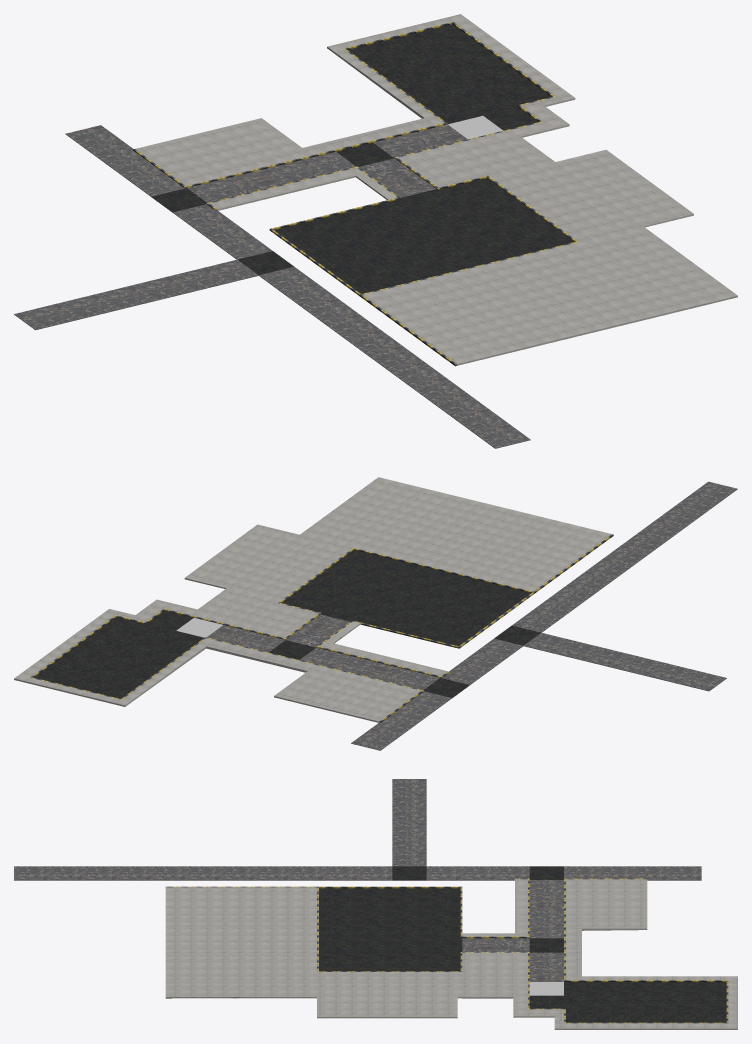
Rendered from Area2Foundation.fbx.
3 views of the same model, one above another, from view 1: azimuth 30°, elevation 25°; view 2: azimuth 150°, elevation 25°; view 3: azimuth 270°, elevation 25° (orthographic). The views are drawn at different scales.
Parts seen in each view (by area): view 1: Area2Foundation; view 2: Area2Foundation; view 3: Area2Foundation.
Boxes of the visible parts, x1,y1,x2,y2 form: Area2Foundation: [14, 14, 737, 448]; Area2Foundation: [14, 477, 737, 750]; Area2Foundation: [14, 779, 737, 1029].
Size of the model in its own units: 1859 by 7.51 by 2271.
